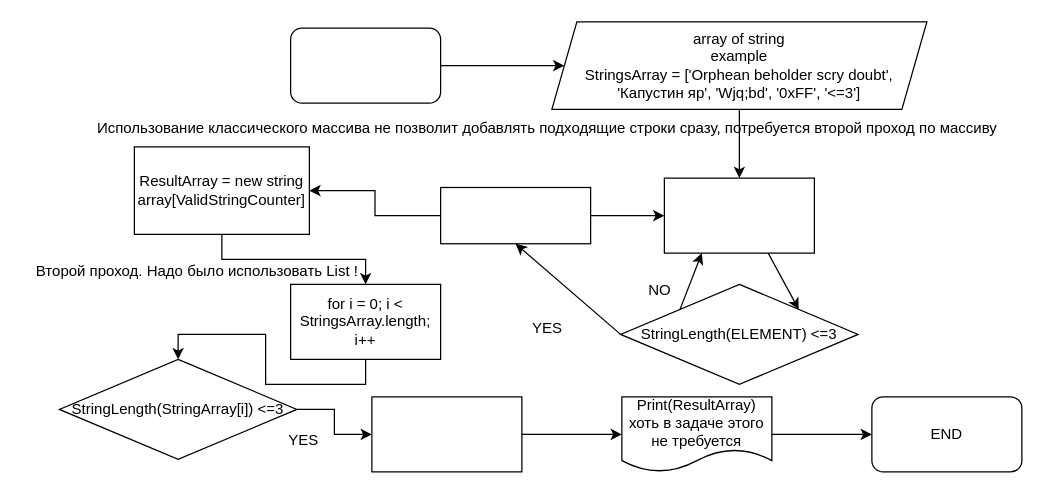
Image size: 1044x494. Some labels were removed from this diagram. Each missing label, with the centre of its shape:
"BEGIN" goes at (x=365, y=65).
"foreach ELEMENT in StringsArray" goes at (x=738, y=215).
"ResultArray[k] = StringArray[i]; k ++" goes at (x=446, y=434).
"ValidStringCounter ++" goes at (x=515, y=215).
